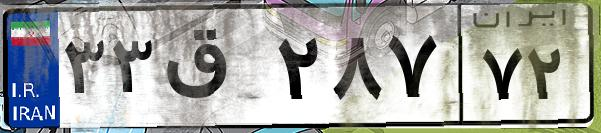2: (270, 28, 330, 110), (525, 38, 570, 115)
3: (57, 26, 110, 100), (110, 28, 158, 98)
7: (385, 28, 445, 110), (475, 38, 525, 113)
8: (330, 28, 385, 110)
ق: (158, 20, 270, 120)
